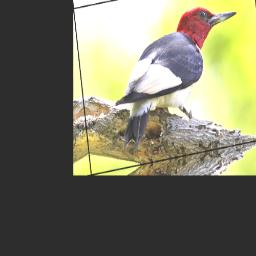Woodpecker: (107, 1, 248, 153)
